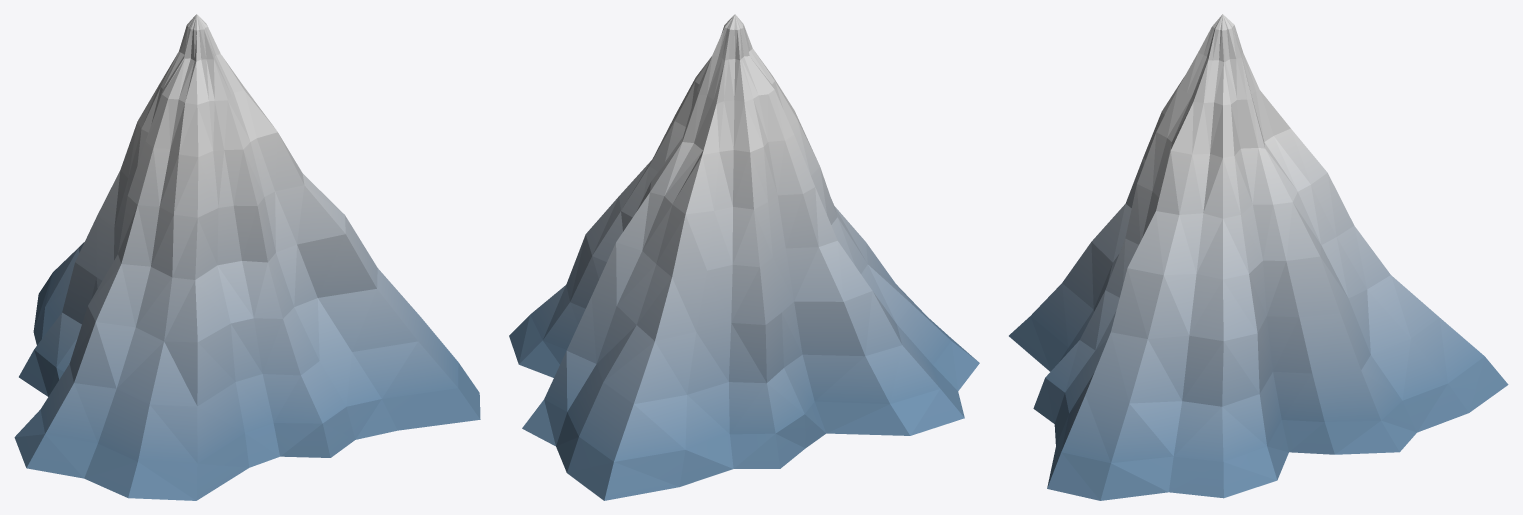
Rendered from glacier-s7-U_iWueLq.glb.
3 renders of one model, left to right at view 1: azimuth 30°, elevation 25°; view 2: azimuth 150°, elevation 25°; view 3: azimuth 270°, elevation 25°, orthographic.
Parts seen in each view (by area): view 1: sc_peak_2; view 2: sc_peak_2; view 3: sc_peak_2.
Boxes of the visible parts, x1,y1,x2,y2 form: sc_peak_2: [14, 14, 480, 500]; sc_peak_2: [509, 14, 979, 500]; sc_peak_2: [1009, 14, 1508, 500].
Size of the model in its own units: 127 by 110 by 130.
